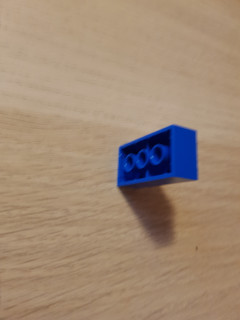2x4 blue: (116, 125, 201, 190)
